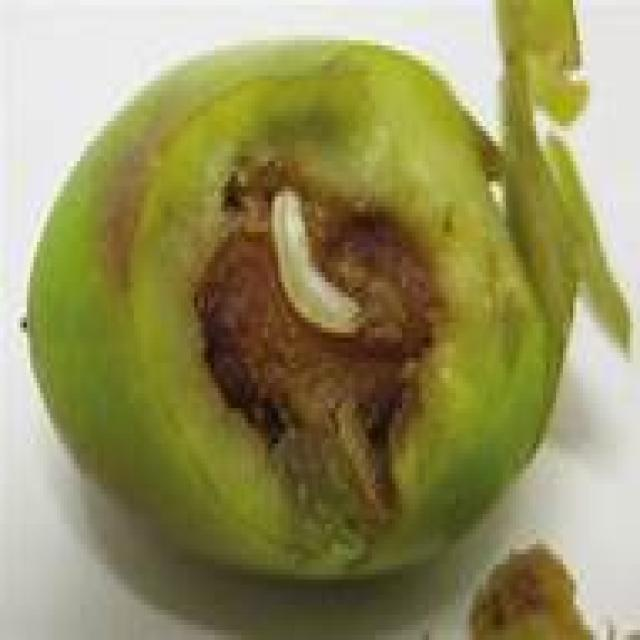Anthracnose: (31, 46, 570, 574)
